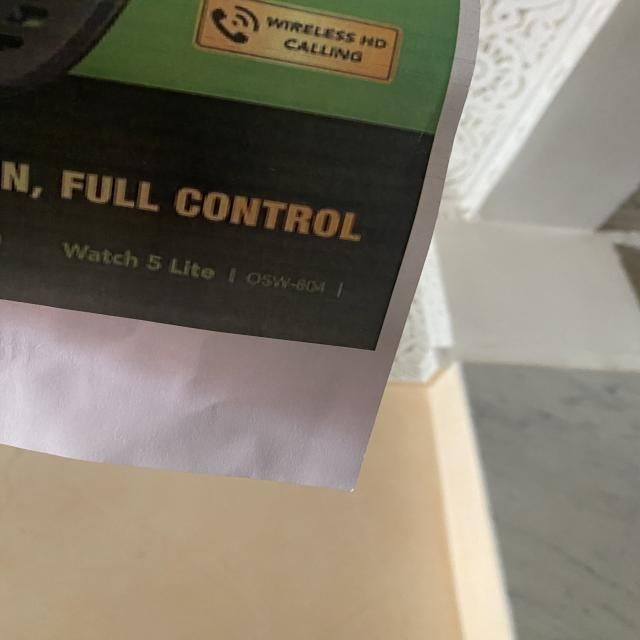Watch 5 Lite OSW-804: (57, 235, 352, 307)
